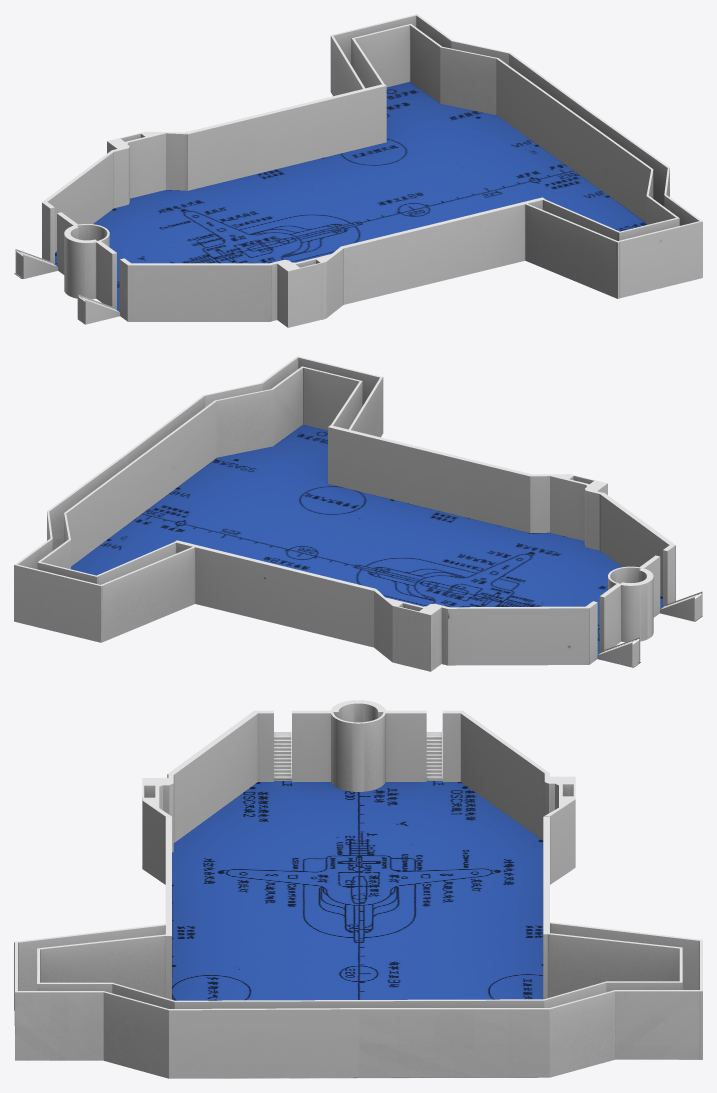
Rendered from luoJingJiaBan05.fbx.
3 views of the same model, one above another, from view 1: azimuth 30°, elevation 25°; view 2: azimuth 150°, elevation 25°; view 3: azimuth 270°, elevation 25° (orthographic). The views are drawn at different scales.
Parts seen in each view (by area): view 1: polySurface8; view 2: polySurface8; view 3: polySurface8.
Boxes of the visible parts, bbox=[...] form: polySurface8: bbox=[14, 14, 702, 327]; polySurface8: bbox=[14, 356, 702, 671]; polySurface8: bbox=[14, 700, 702, 1078].
Size of the model in its own units: 3613 by 3279 by 359.
